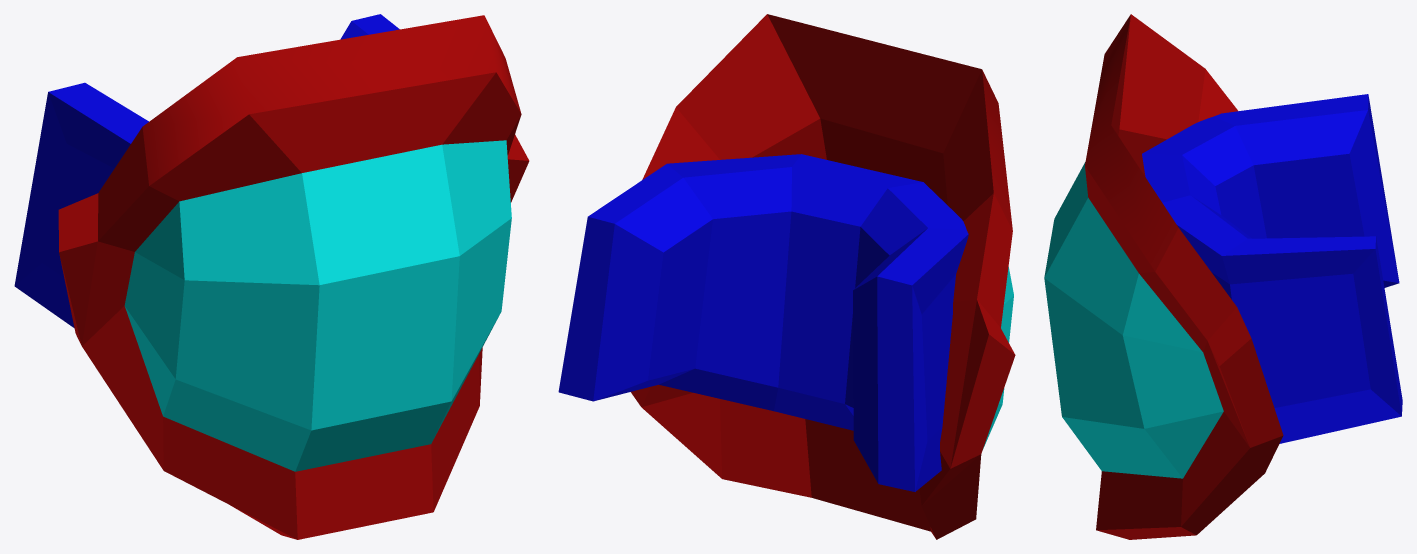
The model's file is Chr_KneeAttachRight_Static_04.fbx.
The picture shows the model from 3 angles, left to right: view 1: azimuth 30°, elevation 25°; view 2: azimuth 150°, elevation 25°; view 3: azimuth 270°, elevation 25°; orthographic projection. The views are drawn at different scales.
Visible parts, largest first — view 1: Chr_KneeAttachRight_04; view 2: Chr_KneeAttachRight_04; view 3: Chr_KneeAttachRight_04.
Part boxes in pixels (x1=…): Chr_KneeAttachRight_04: x1=14, y1=14, x2=529, y2=539; Chr_KneeAttachRight_04: x1=558, y1=14, x2=1015, y2=539; Chr_KneeAttachRight_04: x1=1044, y1=14, x2=1402, y2=539.
Bounding box in the file's own units: 16.47 × 17.36 × 12.62.
